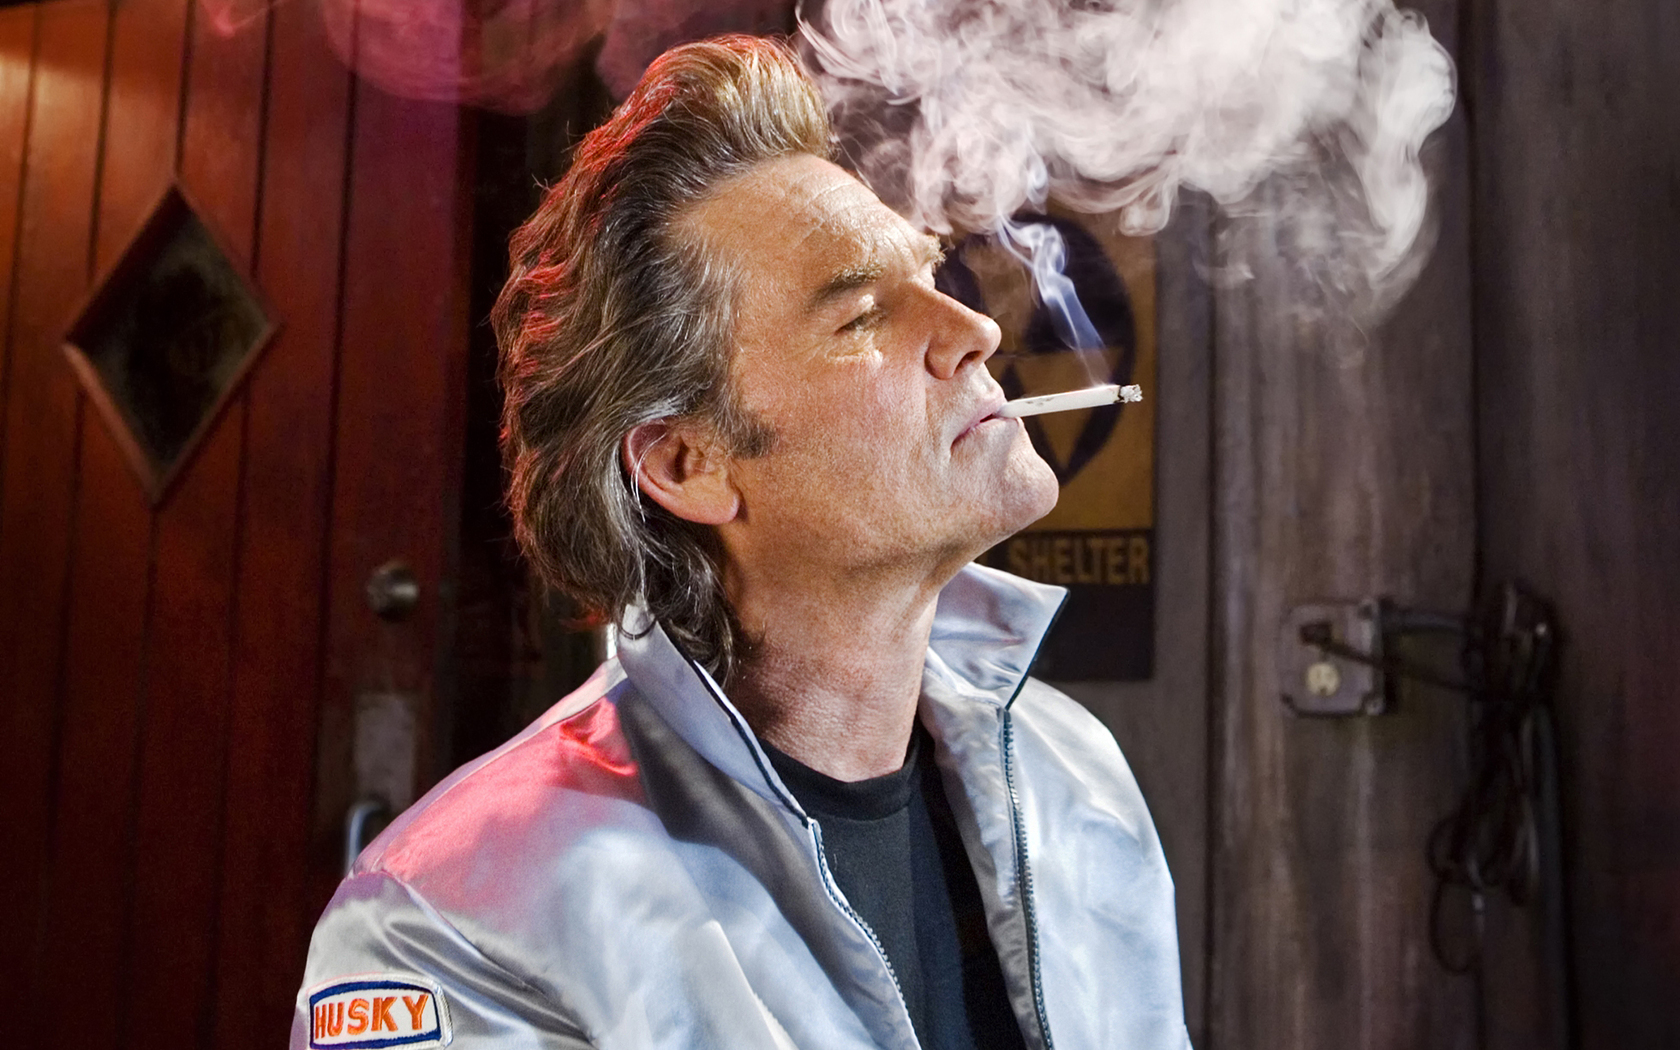cigarette: (964, 369, 1171, 455)
